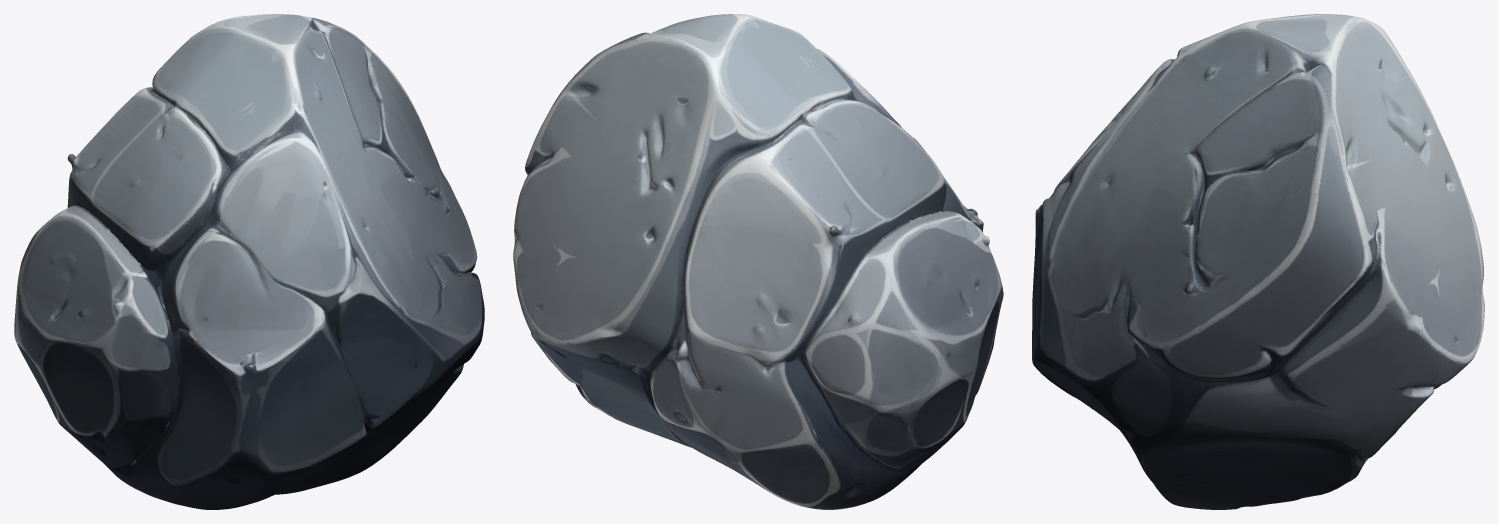
Rendered from rock.glb.
3 views of the same model, side by side, from view 1: azimuth 30°, elevation 25°; view 2: azimuth 150°, elevation 25°; view 3: azimuth 270°, elevation 25° (orthographic). The views are drawn at different scales.
Parts seen in each view (by area): view 1: Rock; view 2: Rock; view 3: Rock.
Part boxes in pixels (bbox=[...]): Rock: bbox=[14, 14, 484, 509]; Rock: bbox=[513, 14, 1003, 509]; Rock: bbox=[1032, 14, 1484, 509].
Size of the model in its own units: 0.295 by 0.3 by 0.2612.
Materials: 1 (1 with a texture image).
